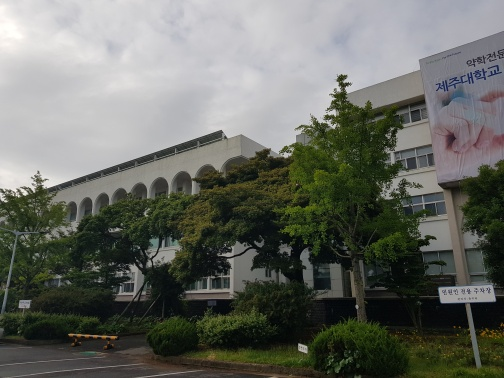Main Building of University: (33, 38, 494, 329)
